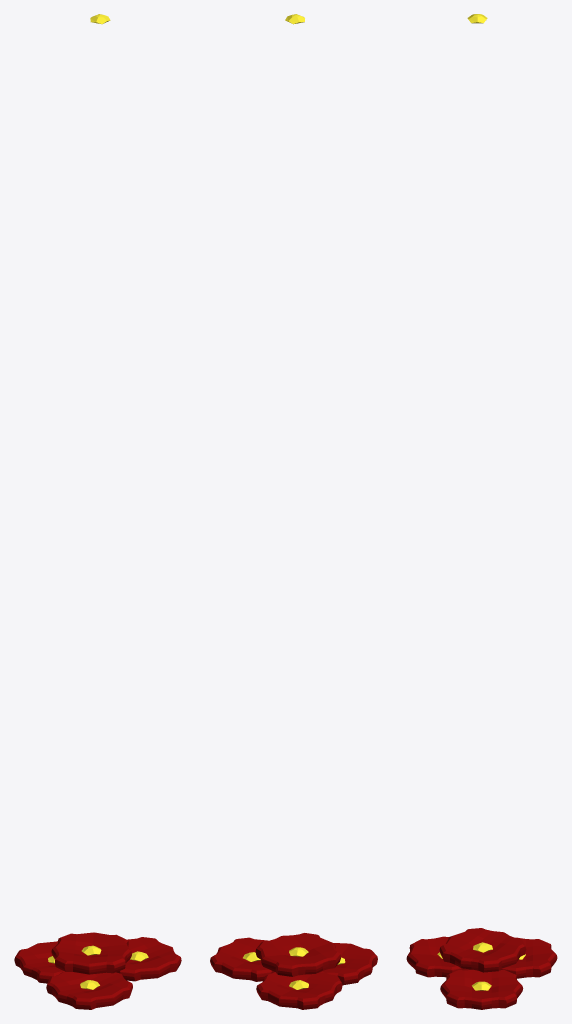
File: cushion_2.fbx
3 renders of one model, left to right at view 1: azimuth 30°, elevation 25°; view 2: azimuth 150°, elevation 25°; view 3: azimuth 270°, elevation 25°, orthographic.
Visible parts, largest first — view 1: Cube.001, Cube.002, Cube.023, Cube.003; view 2: Cube.001, Cube.003, Cube.023, Cube.002; view 3: Cube.001, Cube.023, Cube.002, Cube.003.
Boxes of the visible parts, <box> form: Cube.001: <box>51,932,131,974</box>; Cube.002: <box>46,971,132,1009</box>; Cube.023: <box>116,937,181,981</box>; Cube.003: <box>14,941,64,983</box>; Cube.001: <box>255,933,340,976</box>; Cube.003: <box>256,971,342,1009</box>; Cube.023: <box>210,937,274,981</box>; Cube.002: <box>319,943,377,985</box>; Cube.001: <box>439,928,526,972</box>; Cube.023: <box>440,969,523,1009</box>; Cube.002: <box>406,936,472,977</box>; Cube.003: <box>500,937,557,978</box>.
Size of the model in its own units: 463 by 3134 by 447.
